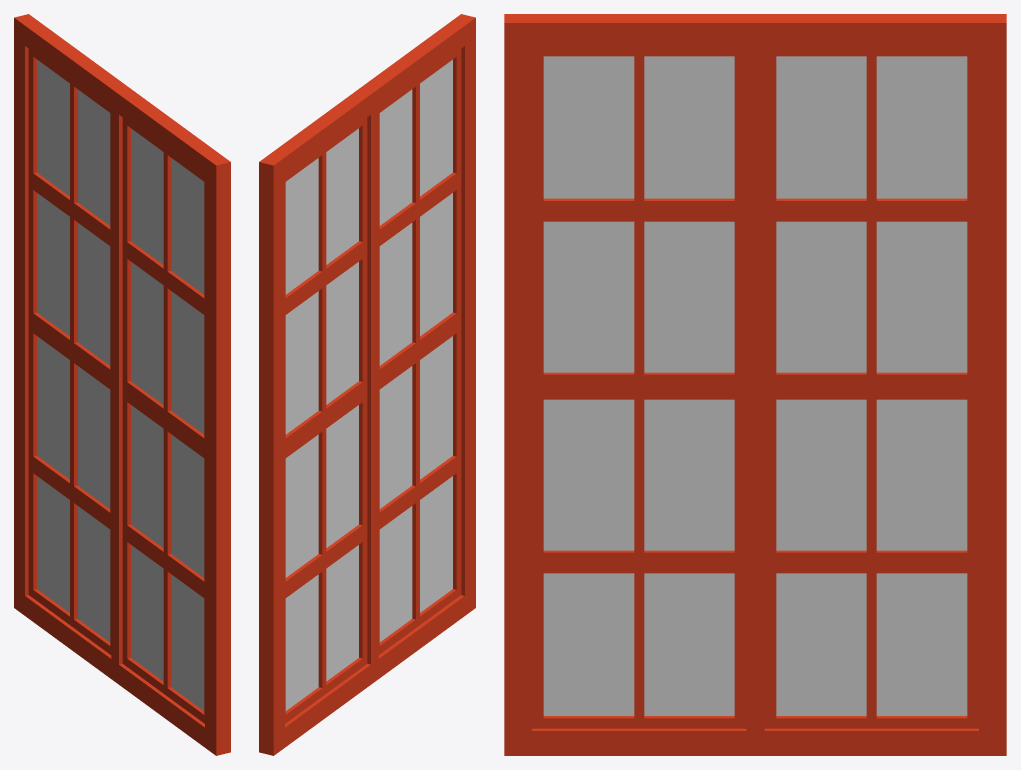
Rendered from SM_Windows_001.fbx.
3 views of the same model, side by side, from view 1: azimuth 30°, elevation 25°; view 2: azimuth 150°, elevation 25°; view 3: azimuth 270°, elevation 25° (orthographic). The views are drawn at different scales.
Parts seen in each view (by area): view 1: Windows; view 2: Windows; view 3: Windows.
Boxes of the visible parts, x1=… form: Windows: x1=14, y1=14, x2=230, y2=755; Windows: x1=259, y1=14, x2=475, y2=755; Windows: x1=504, y1=14, x2=1006, y2=755.
Bounding box in the file's own units: 4 × 153 × 95.
